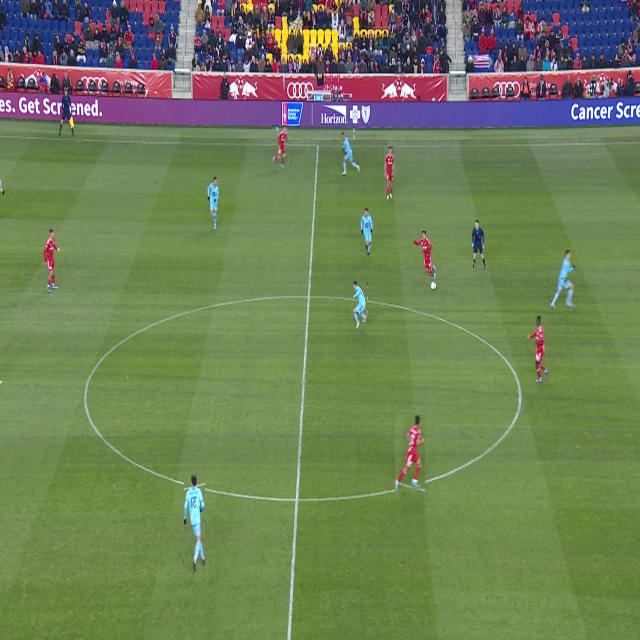football: (432, 281, 435, 291)
player: (395, 415, 425, 492), (184, 475, 205, 571), (551, 251, 575, 309), (527, 316, 548, 382), (43, 229, 61, 292), (414, 231, 436, 280), (341, 132, 360, 175), (273, 126, 288, 168), (207, 177, 219, 229), (354, 282, 367, 329), (361, 209, 373, 256), (385, 147, 394, 200)
referee: (472, 220, 486, 270)
